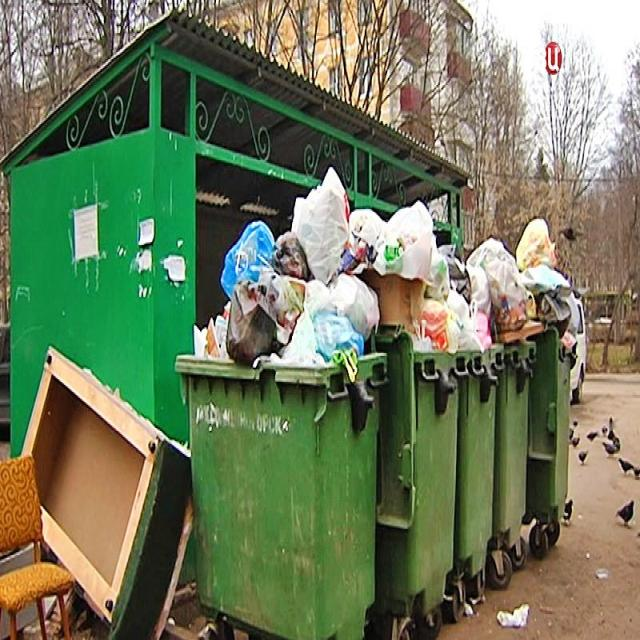bin: (364, 327, 578, 640), (174, 351, 389, 640)
trash: (193, 165, 579, 383), (0, 345, 193, 640), (496, 603, 529, 630)
